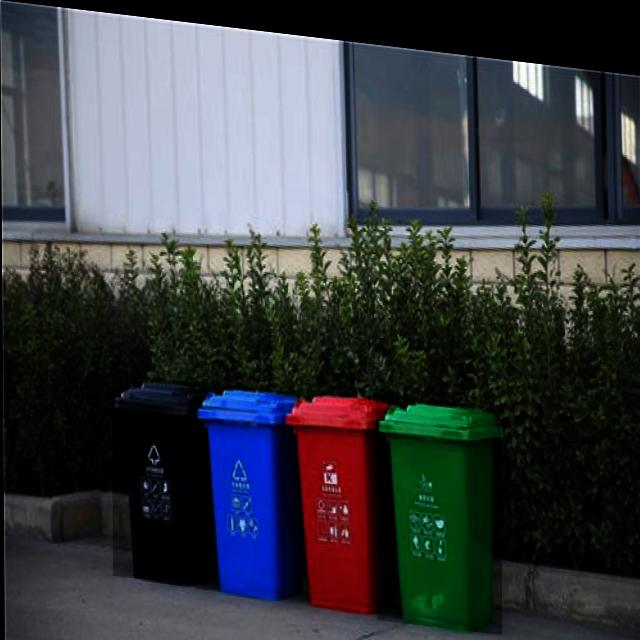garbage_bin: (375, 384, 501, 623), (284, 379, 393, 607), (194, 376, 302, 594), (111, 370, 216, 583)
